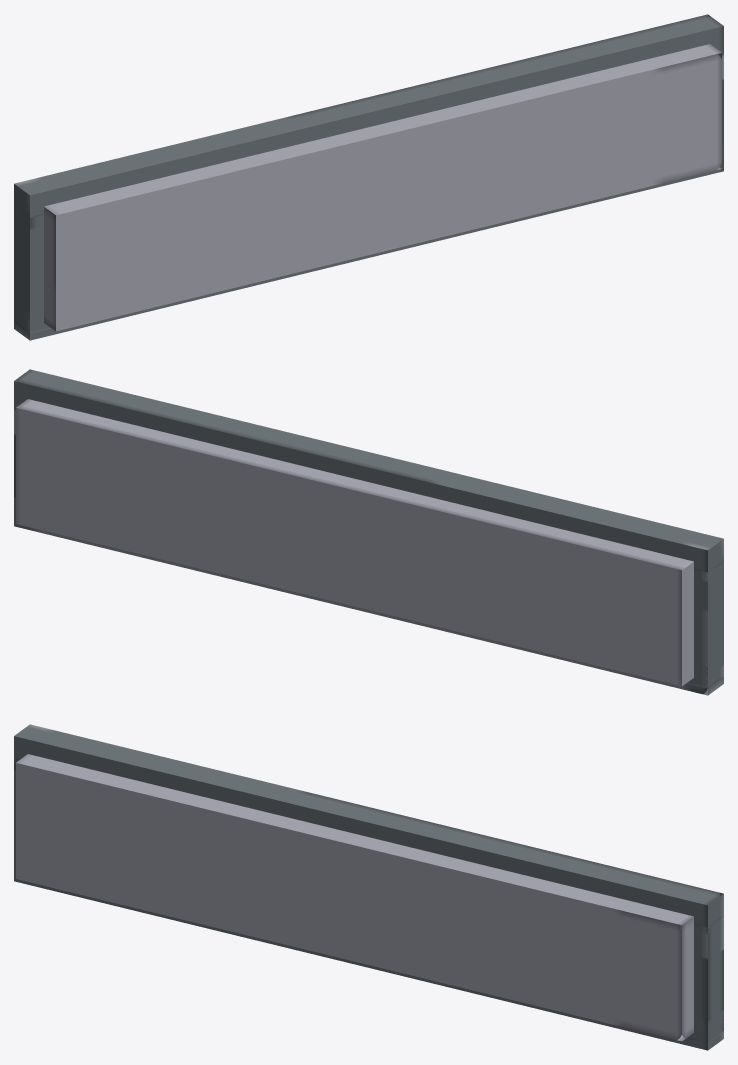
File: nl_station_sign_wall_mrw.obj
3 views of the same model, one above another, from view 1: azimuth 30°, elevation 25°; view 2: azimuth 150°, elevation 25°; view 3: azimuth 330°, elevation 25° (orthographic).
Visible parts, largest first — view 1: sign_back, pole_top, pole_right; view 2: sign_front, pole_top, pole_right; view 3: sign_back, pole_top, pole_left.
Part boxes in pixels (x1,y1,x2,y2): sign_back: (44,44,721,331); pole_top: (14,14,723,340); pole_right: (14,205,50,333); sign_front: (16,399,693,686); pole_top: (14,369,723,695); pole_right: (687,560,723,688); sign_back: (16,754,693,1041); pole_top: (14,724,723,1050); pole_left: (680,915,723,1042).
Size of the model in its own units: 3.12 by 0.625 by 0.3125.
Materials: 1 (1 with a texture image).
